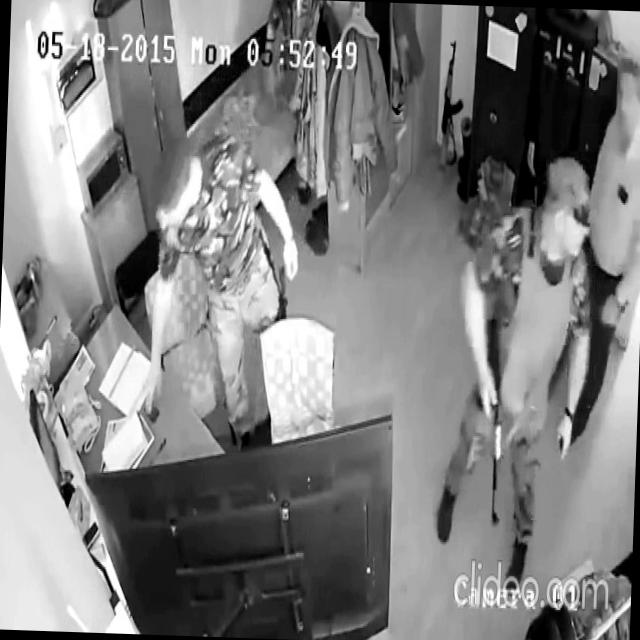gun: (468, 295, 510, 529), (438, 36, 466, 170)
person: (139, 130, 304, 453), (565, 46, 640, 452)
person with a gun: (433, 152, 598, 598)
